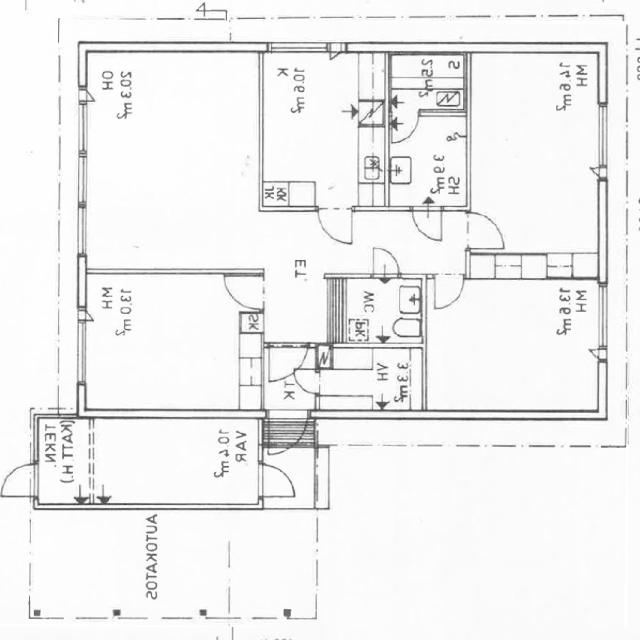door: (269, 410, 307, 457), (269, 343, 308, 386), (466, 213, 505, 247), (257, 463, 296, 496), (257, 562, 296, 595), (257, 529, 296, 562), (319, 206, 352, 244), (227, 276, 264, 309), (2, 464, 38, 495), (413, 206, 442, 239), (435, 274, 463, 307), (392, 112, 418, 143), (291, 368, 319, 394), (374, 250, 398, 278)
